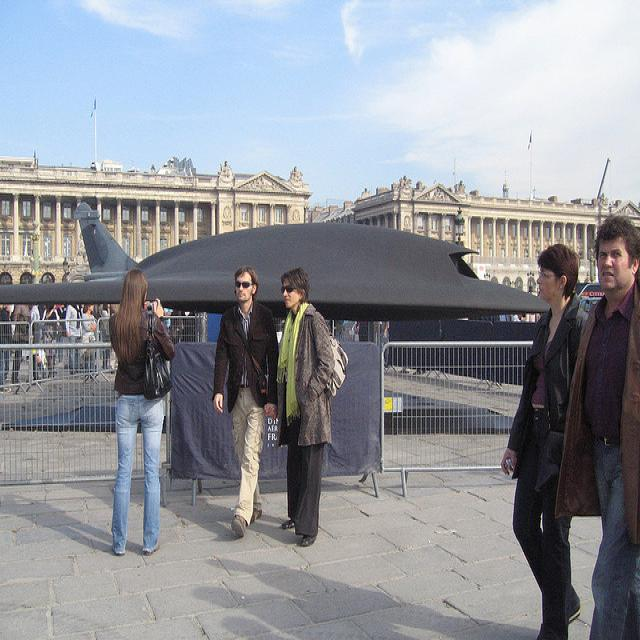Vehicle: (577, 282, 605, 314)
